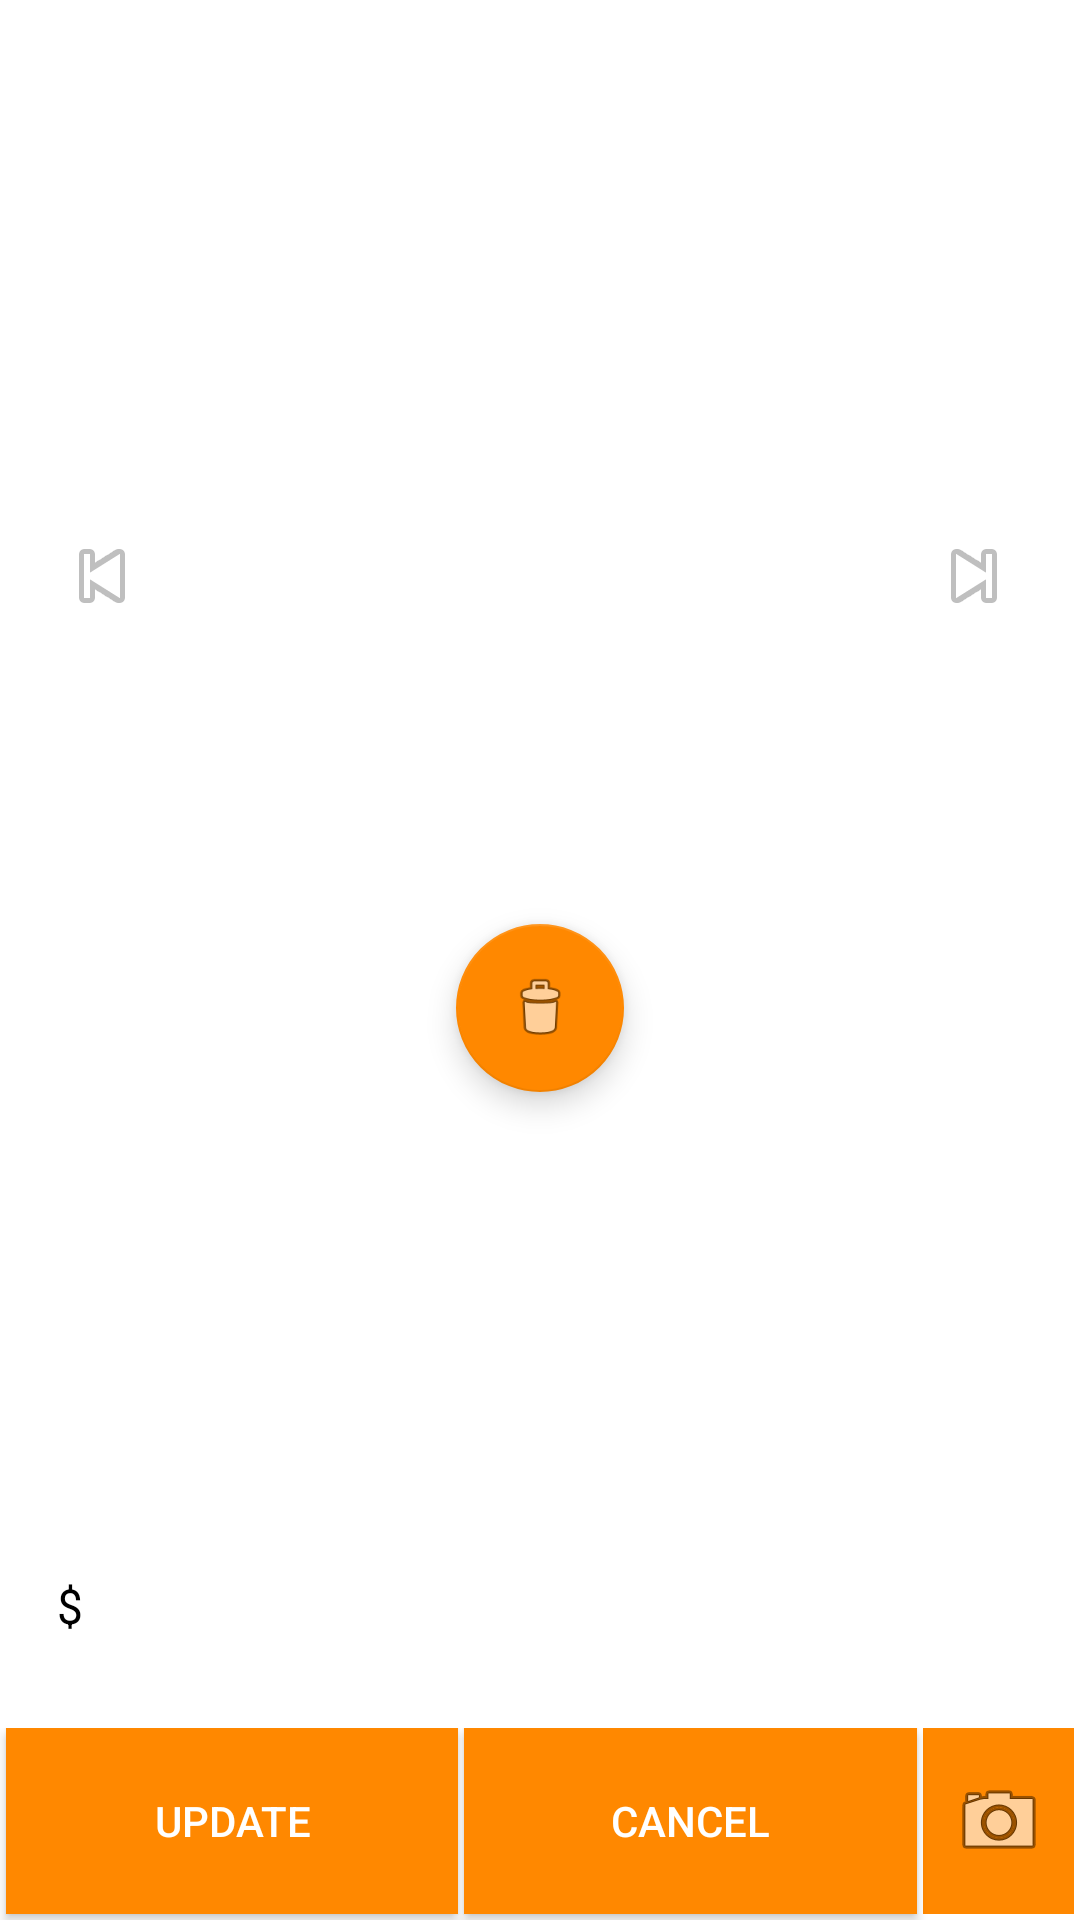

Where to tap for icons on this 1080px×1920px app screen, as [x,y]:
camera: [998,1821]
delete: [540,1008]
next: [974,576]
previous: [102,576]
